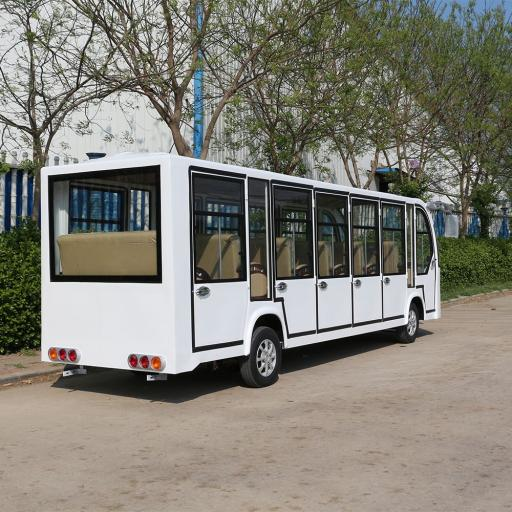bus: (41, 153, 440, 387)
